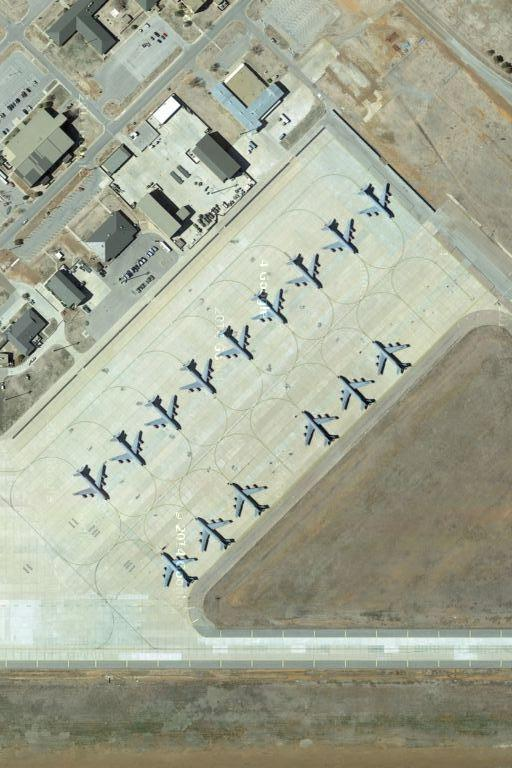KC-135: (192, 511, 236, 554), (156, 548, 199, 591), (299, 407, 342, 450), (334, 371, 377, 414), (71, 462, 114, 505), (177, 356, 219, 400), (354, 180, 396, 224), (284, 250, 326, 293), (143, 392, 184, 436), (370, 337, 413, 378), (249, 286, 289, 329), (215, 322, 256, 363), (320, 215, 359, 258), (108, 429, 149, 469), (227, 478, 269, 517)
